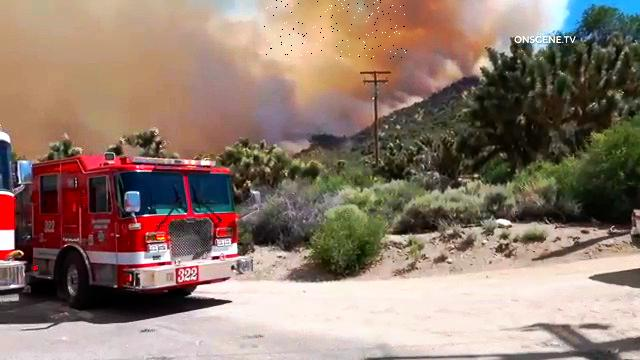smoke: (260, 0, 407, 60)
